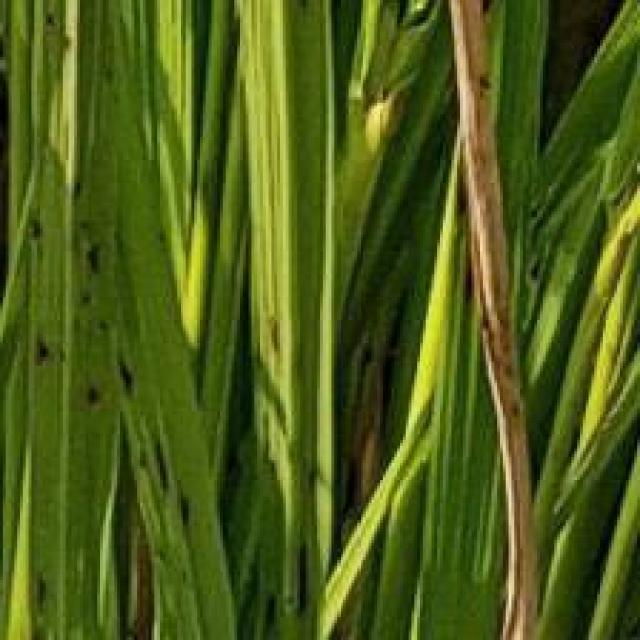Bacterial_Leaf_Blight: (448, 11, 552, 632)
